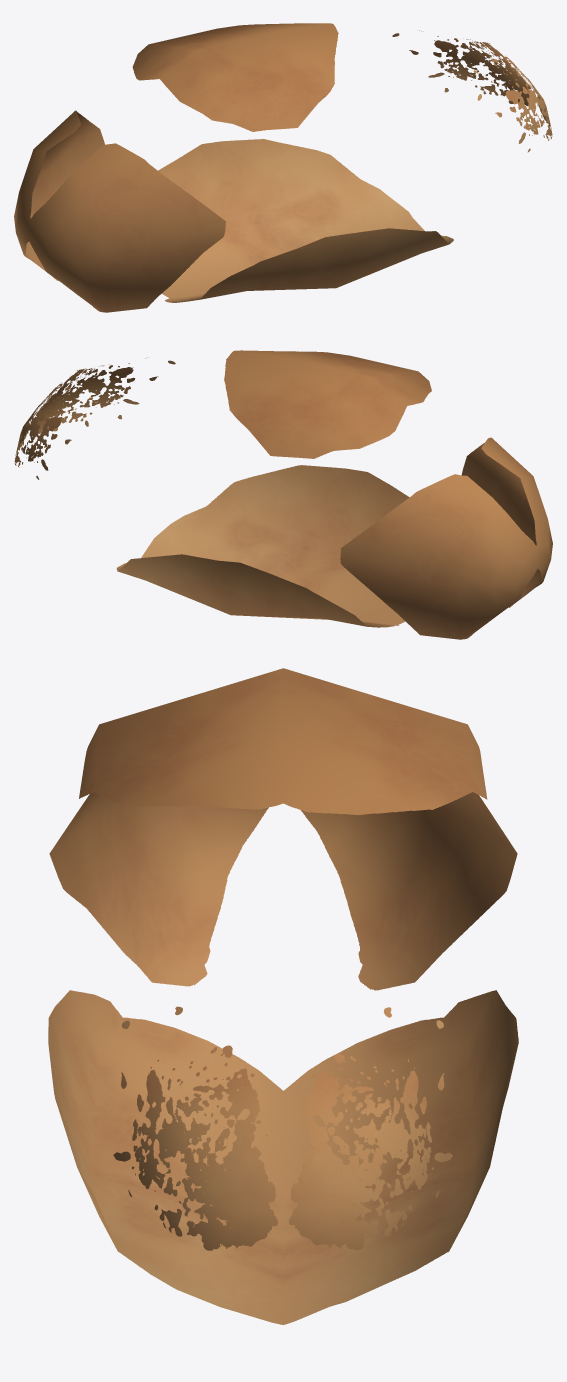
File: Potato.fbx
The picture shows the model from 3 angles, top to bottom: view 1: azimuth 30°, elevation 25°; view 2: azimuth 150°, elevation 25°; view 3: azimuth 270°, elevation 25°; orthographic projection. The views are drawn at different scales.
Parts seen in each view (by area): view 1: Potato; view 2: Potato; view 3: Potato.
Part boxes in pixels (left/top/right/bottom): Potato: left=14, top=23, right=552, bottom=312; Potato: left=14, top=350, right=552, bottom=639; Potato: left=48, top=668, right=518, bottom=1324.
Size of the model in its own units: 63.24 by 30.26 by 31.12.
Materials: 1 (1 with a texture image).
